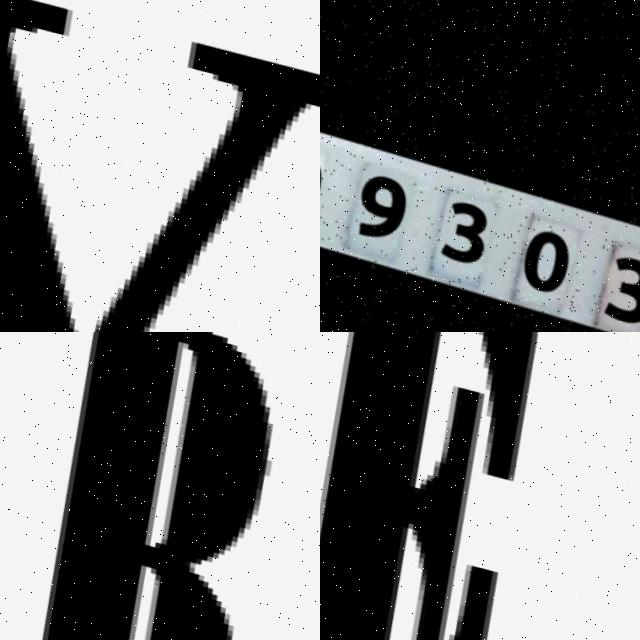0: (495, 195, 587, 310)
3: (418, 171, 502, 276), (581, 225, 640, 332)
9: (328, 141, 425, 259)
B: (38, 332, 272, 640)
E: (320, 332, 477, 640)
V: (0, 0, 320, 332)
